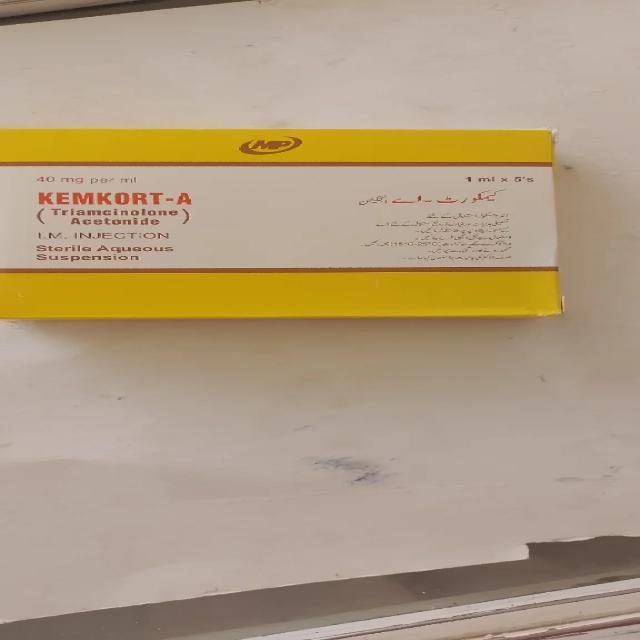drug-name: (36, 187, 196, 205)
